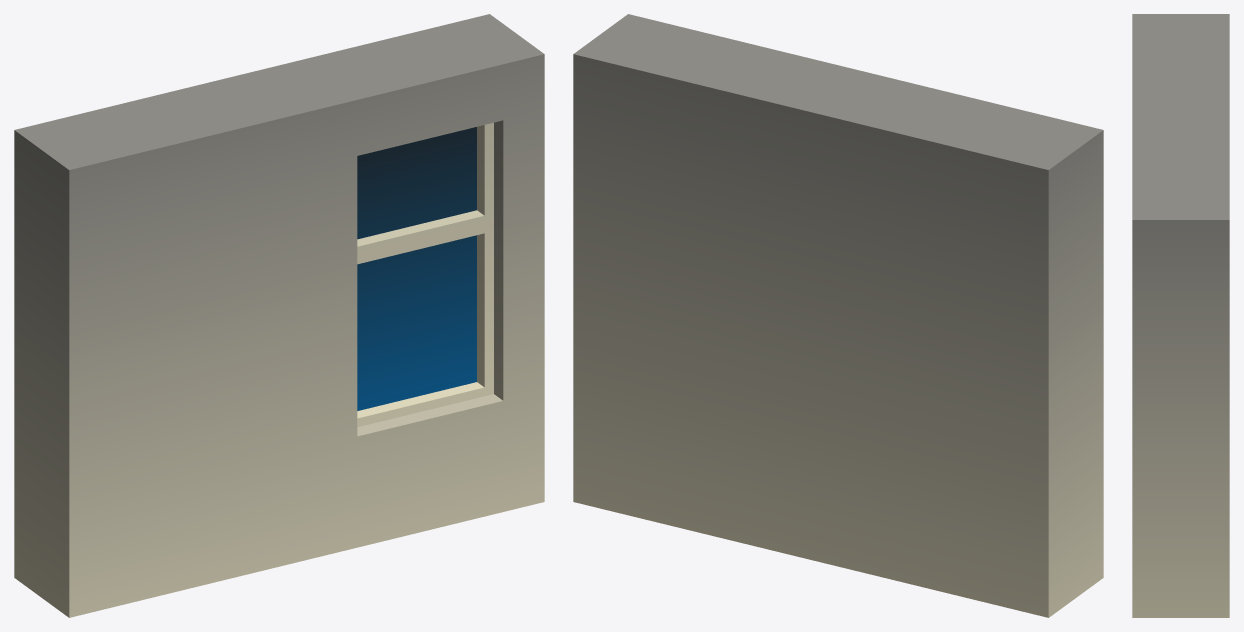
File: B02_fenetre_8.fbx
3 renders of one model, left to right at view 1: azimuth 30°, elevation 25°; view 2: azimuth 150°, elevation 25°; view 3: azimuth 270°, elevation 25°, orthographic. The views are drawn at different scales.
Parts seen in each view (by area): view 1: B02_fenetre_8; view 2: B02_fenetre_8; view 3: B02_fenetre_8.
Part boxes in pixels (x1,y1,x2,y2): B02_fenetre_8: (14,14,544,617); B02_fenetre_8: (573,14,1103,617); B02_fenetre_8: (1132,14,1229,617).
Bounding box in the file's own units: 500 × 450 × 100.
